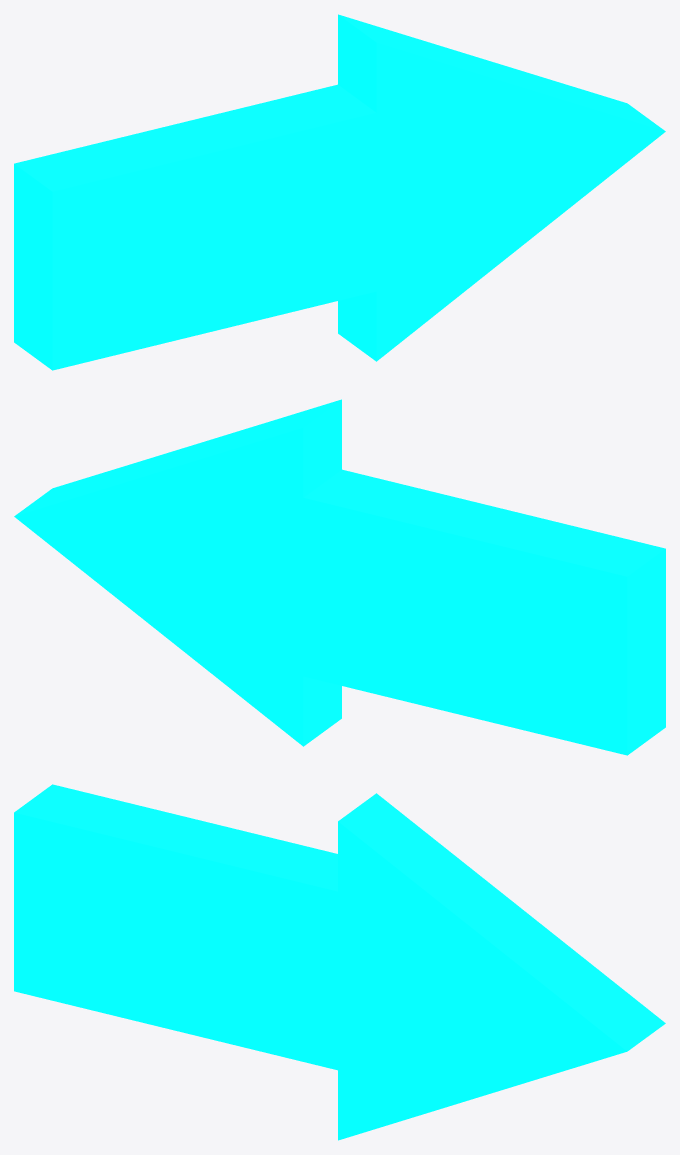
Rendered from arrow.fbx.
3 views of the same model, one above another, from view 1: azimuth 30°, elevation 25°; view 2: azimuth 150°, elevation 25°; view 3: azimuth 330°, elevation 25° (orthographic).
Parts seen in each view (by area): view 1: pCube3; view 2: pCube3; view 3: pCube3.
Boxes of the visible parts, bbox=[...] form: pCube3: bbox=[14, 14, 665, 370]; pCube3: bbox=[14, 399, 665, 755]; pCube3: bbox=[14, 784, 665, 1140].
Size of the model in its own units: 22.98 by 11.43 by 2.5.
